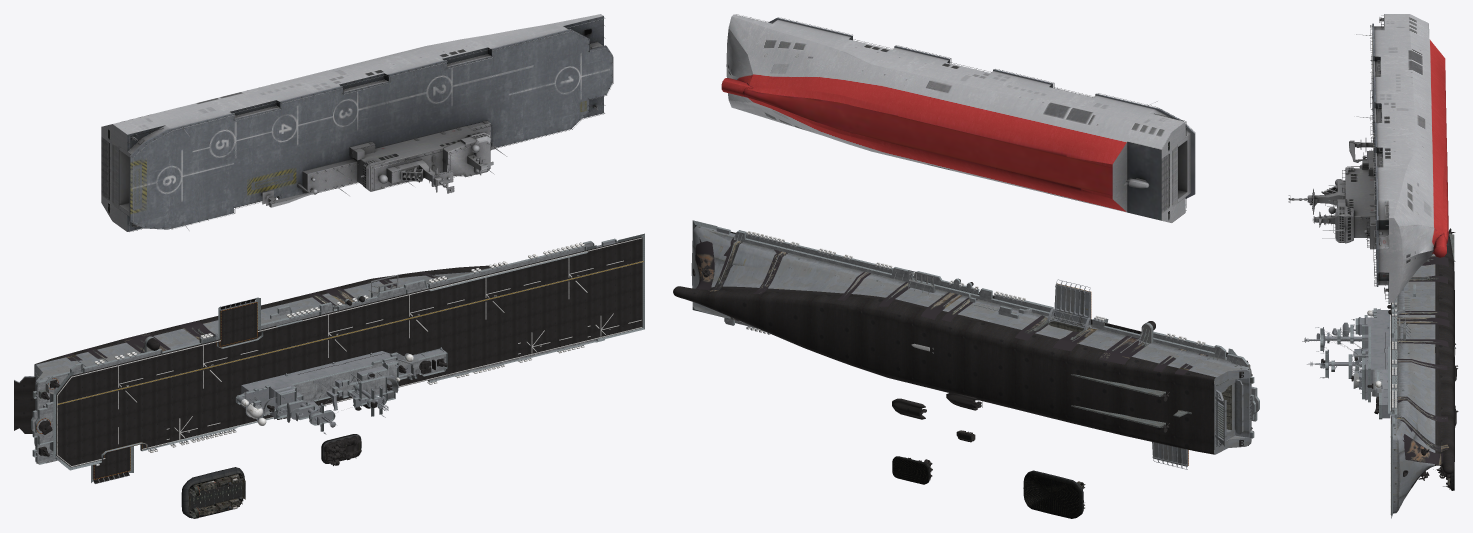
The model's file is lhd-amphibious-assault.glb.
The picture shows the model from 3 angles, left to right: view 1: azimuth 30°, elevation 25°; view 2: azimuth 150°, elevation 25°; view 3: azimuth 270°, elevation 25°; orthographic projection. The views are drawn at different scales.
Visible parts, largest first — view 1: mistral_Mistral_default_0, wasp_00_Material #19737_0, wasp_island_default_0, wasp_00_Material #19793_0, wasp_00_Material #19760_0, wasp_fences_Material #19797_0, wasp_props_Material #19795_0 (×2), wasp_island_Material #19793_0, wasp_island_fences_Material #19797_0, wasp_rusty_Material #19838_0, wasp_lanes_marks_Material #19795_0, wasp_float_island_002_Material #19737_0 (+8 smaller); view 2: mistral_Mistral_default_0, wasp_00_Material #19773_0, wasp_00_Material #19760_0, wasp_rusty_Material #19838_0, wasp_00_Material #19793_0, LCAC_01_MI_lcac_rubber_0, wasp_fences_Material #19797_0, wasp_01_Material #19787_0, wasp_float_island_002_Material #19760_0, wasp_props_Material #19760_0, wasp_00_Material #19789_0, Hovercraft_MI_Hovercraft_04_0 (+1 smaller); view 3: mistral_Mistral_default_0, wasp_00_Material #19760_0, wasp_island_default_0, wasp_00_Material #19773_0, wasp_rusty_Material #19838_0, wasp_island_fences_Material #19797_0, wasp_fences_Material #19797_0, wasp_00_Material #19789_0, wasp_props_Material #19760_0, wasp_island_Material #19760_0, wasp_props_Material #19795_0, wasp_01_Material #19787_0.
Part boxes in pixels (x1=…): mistral_Mistral_default_0: x1=101, y1=14, x2=613, y2=231; wasp_00_Material #19737_0: x1=56, y1=237, x2=642, y2=467; wasp_island_default_0: x1=235, y1=347, x2=445, y2=434; wasp_00_Material #19793_0: x1=32, y1=241, x2=598, y2=463; wasp_00_Material #19760_0: x1=31, y1=240, x2=617, y2=464; wasp_fences_Material #19797_0: x1=31, y1=233, x2=644, y2=470; wasp_props_Material #19795_0 (×2): x1=56, y1=237, x2=641, y2=466; wasp_island_Material #19793_0: x1=293, y1=353, x2=446, y2=401; wasp_island_fences_Material #19797_0: x1=236, y1=352, x2=447, y2=431; wasp_rusty_Material #19838_0: x1=63, y1=271, x2=447, y2=361; wasp_lanes_marks_Material #19795_0: x1=118, y1=257, x2=641, y2=444; wasp_float_island_002_Material #19737_0: x1=220, y1=302, x2=256, y2=345; mistral_Mistral_default_0: x1=721, y1=14, x2=1195, y2=222; wasp_00_Material #19773_0: x1=673, y1=286, x2=1215, y2=454; wasp_00_Material #19760_0: x1=691, y1=225, x2=1254, y2=454; wasp_rusty_Material #19838_0: x1=695, y1=237, x2=1207, y2=375; wasp_00_Material #19793_0: x1=724, y1=231, x2=1258, y2=421; LCAC_01_MI_lcac_rubber_0: x1=1023, y1=470, x2=1083, y2=518; wasp_fences_Material #19797_0: x1=692, y1=220, x2=1259, y2=437; wasp_01_Material #19787_0: x1=698, y1=226, x2=1252, y2=446; wasp_float_island_002_Material #19760_0: x1=1047, y1=284, x2=1090, y2=330; wasp_props_Material #19760_0: x1=718, y1=232, x2=1252, y2=446; wasp_00_Material #19789_0: x1=709, y1=286, x2=1178, y2=368; Hovercraft_MI_Hovercraft_04_0: x1=892, y1=456, x2=929, y2=484; mistral_Mistral_default_0: x1=1288, y1=14, x2=1448, y2=302; wasp_00_Material #19760_0: x1=1391, y1=254, x2=1435, y2=513; wasp_island_default_0: x1=1302, y1=308, x2=1390, y2=418; wasp_00_Material #19773_0: x1=1439, y1=233, x2=1454, y2=474; wasp_rusty_Material #19838_0: x1=1397, y1=238, x2=1449, y2=488; wasp_island_fences_Material #19797_0: x1=1320, y1=308, x2=1381, y2=419; wasp_fences_Material #19797_0: x1=1388, y1=284, x2=1415, y2=518; wasp_00_Material #19789_0: x1=1435, y1=264, x2=1440, y2=465; wasp_props_Material #19760_0: x1=1391, y1=291, x2=1432, y2=446; wasp_island_Material #19760_0: x1=1321, y1=315, x2=1383, y2=396; wasp_props_Material #19795_0: x1=1390, y1=302, x2=1396, y2=514; wasp_01_Material #19787_0: x1=1392, y1=233, x2=1454, y2=502.
Size of the model in its own units: 25638 by 17263 by 7165.
Materials: 27 (27 with a texture image).
